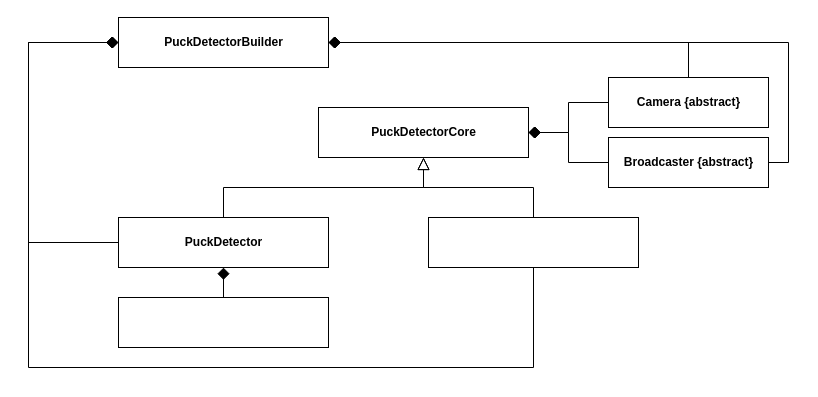
Some shapes in this 818 by 397 pixel diagram are drawn without their labels. Here are the shapes that lost their labels. From the top down, the box of each, then its label:
(428, 216, 638, 268): PuckDetectorConfiguration
(118, 296, 328, 348): DimensionConverter
